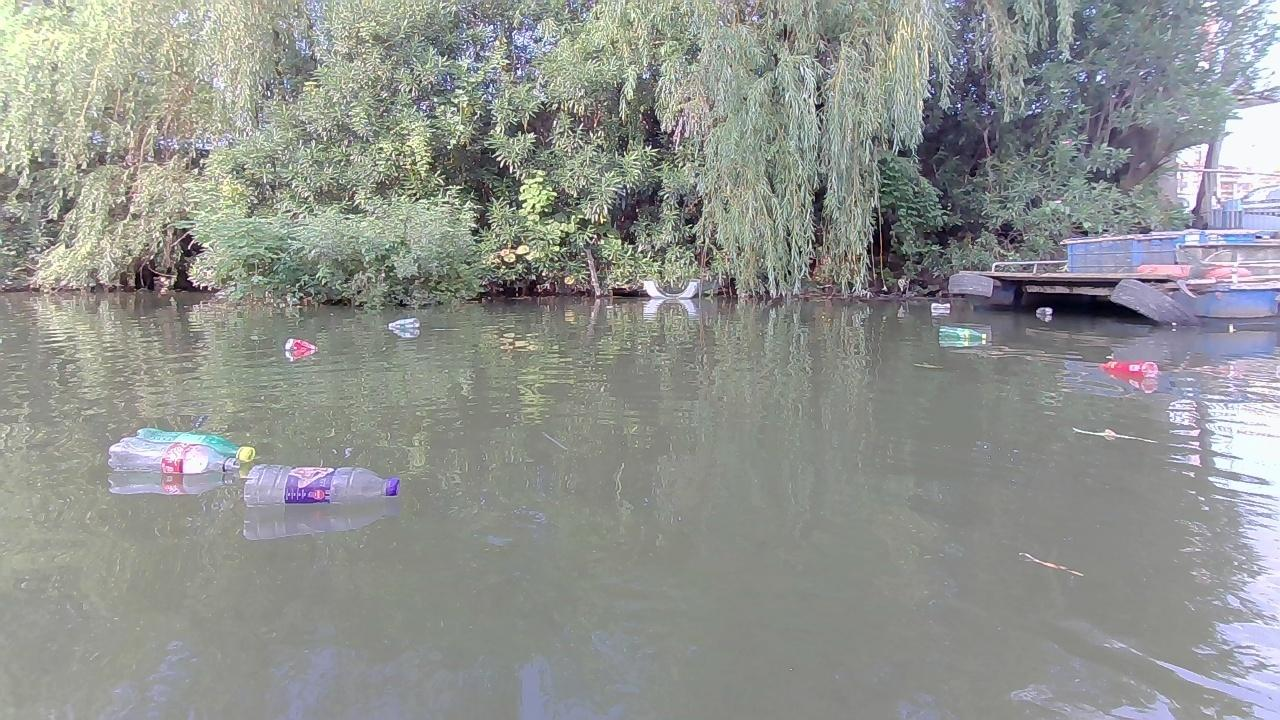bottle: (242, 467, 399, 512), (104, 437, 239, 475), (128, 428, 254, 463), (1093, 359, 1158, 379), (935, 323, 986, 340), (382, 317, 422, 333), (282, 340, 320, 355), (927, 300, 950, 312), (1034, 303, 1052, 314)
